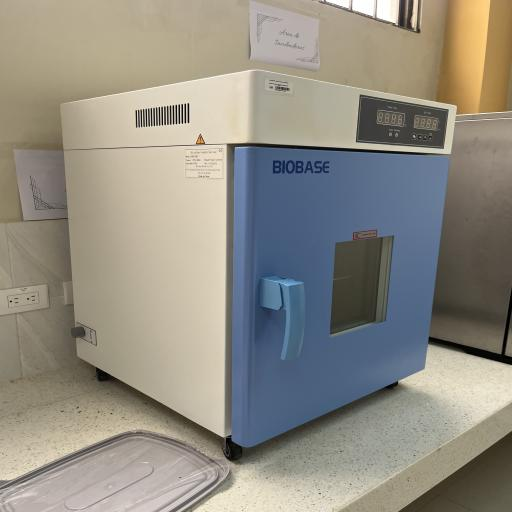Horno_Secado_Biobase: (52, 60, 472, 468)
